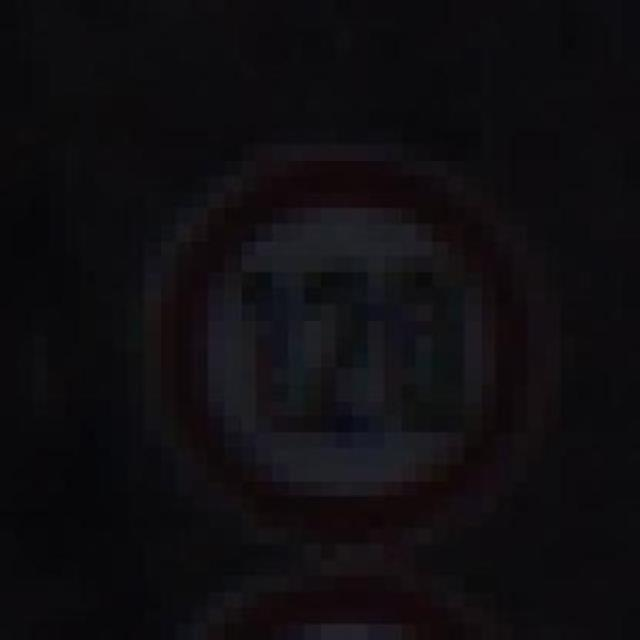forb_speed_over_120: (152, 151, 534, 548)
